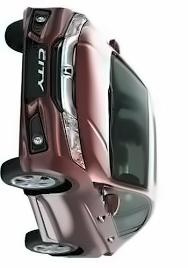Car hood: (74, 17, 113, 180)
Fender - -F-L-: (25, 157, 117, 199)
Front bumper: (18, 3, 71, 177)
Headlight - -L-: (59, 105, 91, 172)
Headlight - -R-: (60, 7, 92, 43)
Passenger-s door - -F-L-: (37, 182, 152, 224)
Passenger-s door - -R-L-: (43, 210, 155, 251)
Side bumper - -L-: (22, 189, 60, 245)
Side mirror - -L-: (99, 189, 123, 220)
Side mirror - -R-: (107, 33, 122, 55)
